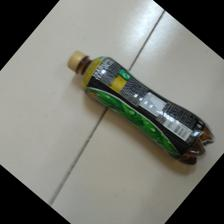Olong: (66, 47, 215, 165)
